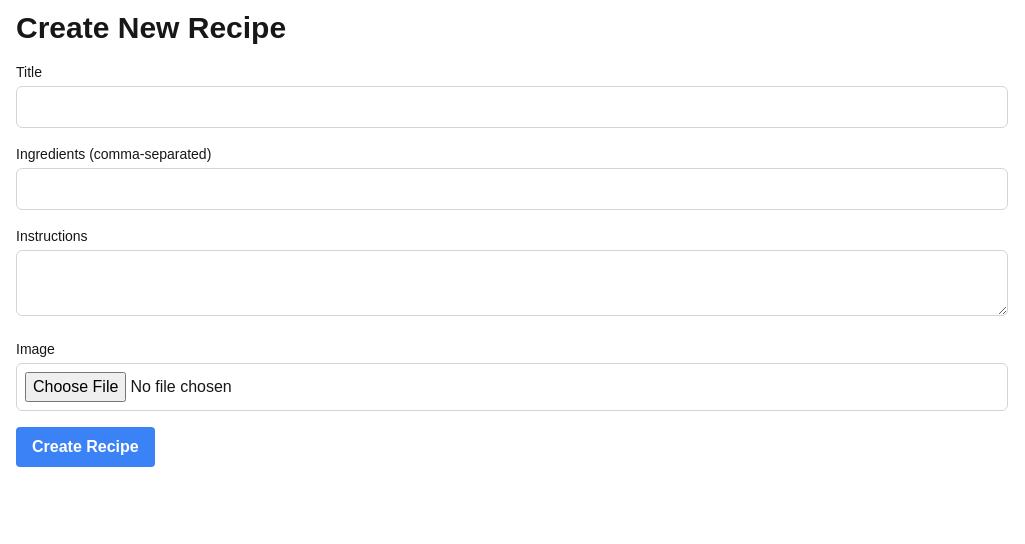
CreateRecipePage › displays validation errors when form fields are empty
# Submit form without filling fields
Click the button "Create Recipe": (85, 447) [16,427,155,467]
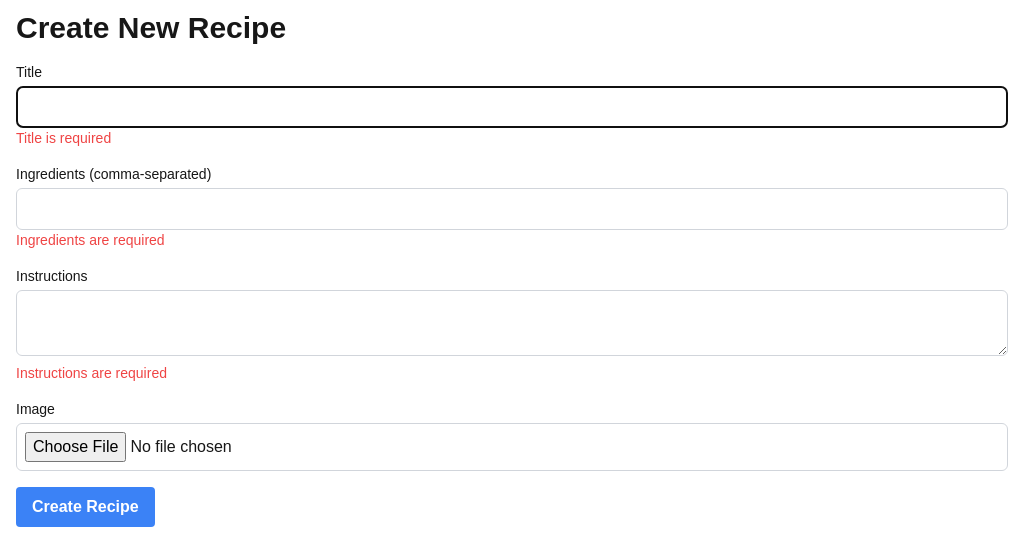
Expected: the text "Title is required" is shown, [16,130,111,146]
Expected: the text "Ingredients are required" is shown, [16,232,165,248]
Expected: the text "Instructions are required" is shown, [16,365,167,381]
